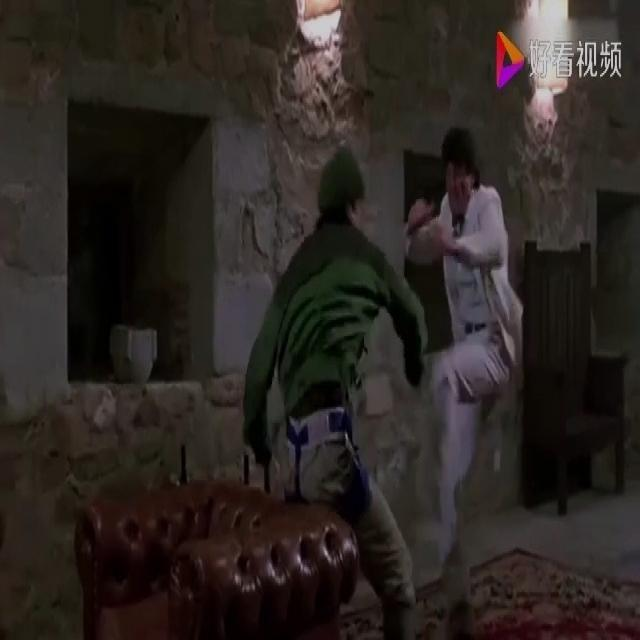fight: (244, 147, 428, 640), (401, 121, 526, 640)
